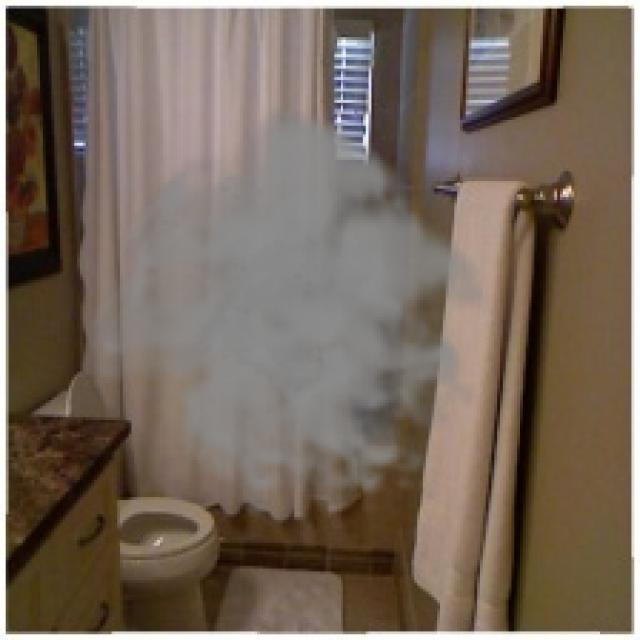smoke: (80, 103, 503, 520)
